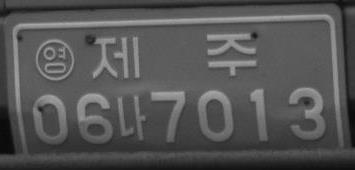0: (196, 88, 234, 143), (31, 92, 69, 146)
1: (241, 88, 275, 141)
3: (288, 86, 327, 142)
6: (75, 91, 113, 145)
7: (149, 89, 187, 143)
나: (116, 94, 146, 141)
영: (34, 37, 75, 81)
제주_D: (91, 32, 258, 80)
